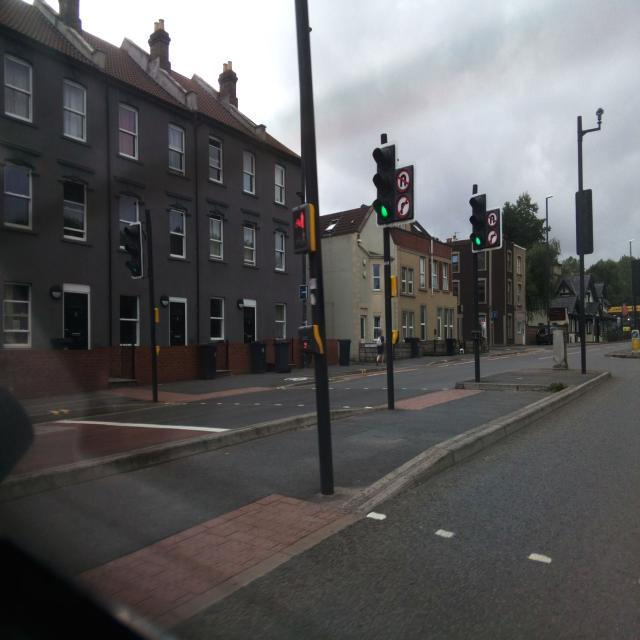car: (535, 324, 555, 344)
